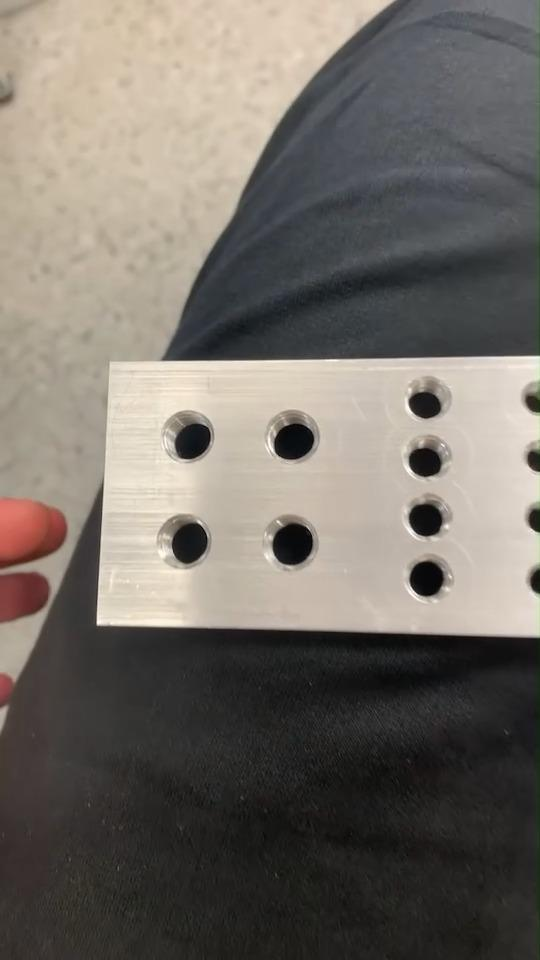hole: (161, 408, 216, 464), (158, 511, 212, 568), (264, 408, 320, 462), (264, 514, 318, 570), (404, 555, 456, 604), (403, 495, 453, 542), (402, 435, 452, 480), (405, 375, 451, 421)
